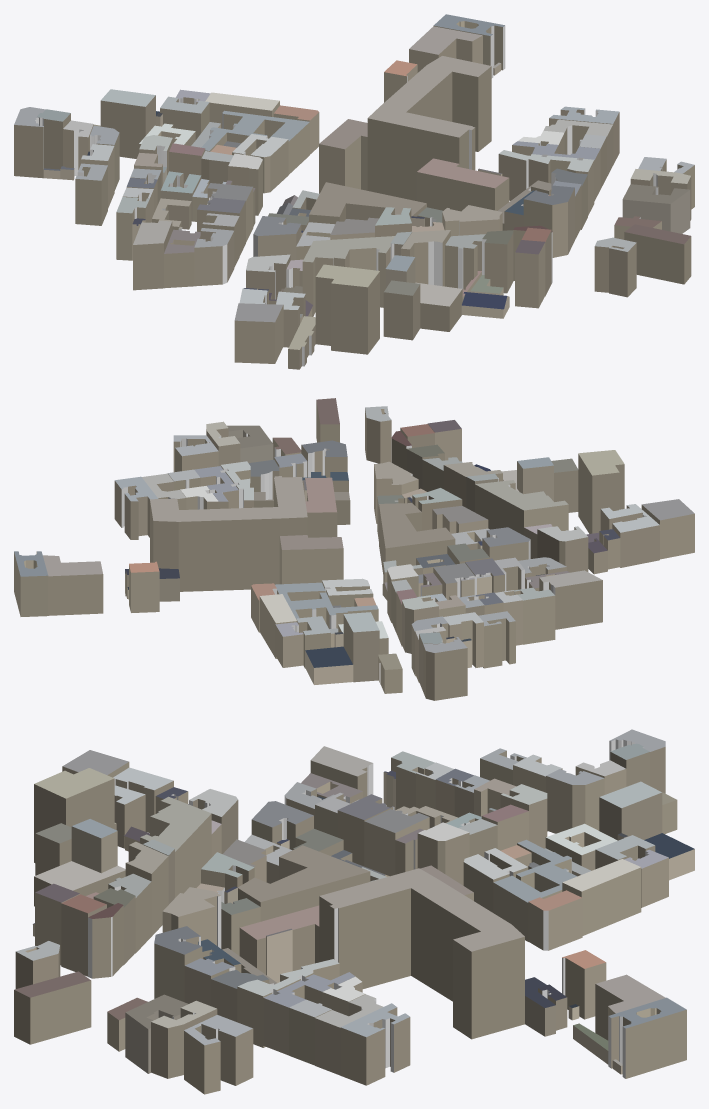
3 renders of one model, top to bottom at view 1: azimuth 30°, elevation 25°; view 2: azimuth 150°, elevation 25°; view 3: azimuth 270°, elevation 25°, orthographic. The views are drawn at different scales.
Parts seen in each view (by area): view 1: tuile; view 2: tuile; view 3: tuile.
Boxes of the visible parts, x1,y1,x2,y2 form: tuile: (14, 14, 694, 369); tuile: (14, 398, 694, 700); tuile: (14, 729, 694, 1094).
Bounding box in the file's own units: 271 × 40.06 × 268.
